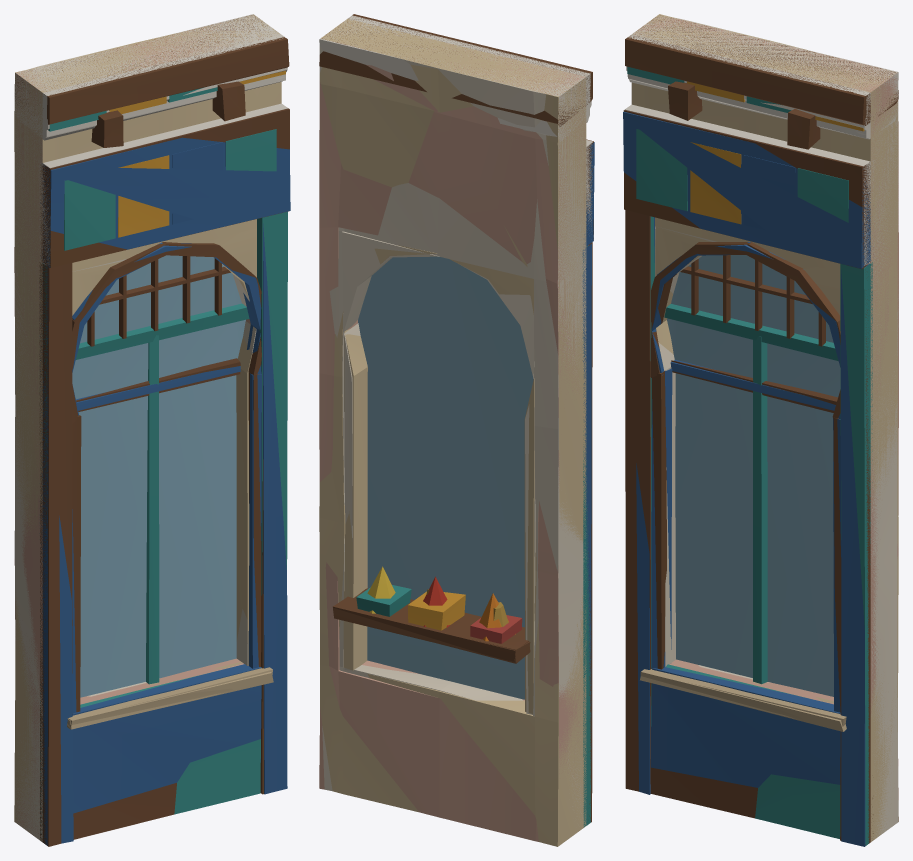
File: wall.shopfront.glb
3 views of the same model, side by side, from view 1: azimuth 30°, elevation 25°; view 2: azimuth 150°, elevation 25°; view 3: azimuth 330°, elevation 25° (orthographic).
Parts seen in each view (by area): view 1: wall.shopfront.v0.mesh, wall.shopfront.v2.mesh, wall.shopfront.v1.mesh; view 2: wall.shopfront.v1.mesh, wall.shopfront.v0.mesh, wall.shopfront.v2.mesh; view 3: wall.shopfront.v0.mesh, wall.shopfront.v2.mesh, wall.shopfront.v1.mesh.
Boxes of the visible parts, left/top/right/bottom form: wall.shopfront.v0.mesh: left=14, top=14, right=289, bottom=846; wall.shopfront.v2.mesh: left=14, top=15, right=290, bottom=845; wall.shopfront.v1.mesh: left=14, top=15, right=287, bottom=841; wall.shopfront.v1.mesh: left=319, top=15, right=593, bottom=841; wall.shopfront.v0.mesh: left=319, top=16, right=593, bottom=846; wall.shopfront.v2.mesh: left=319, top=14, right=594, bottom=826; wall.shopfront.v0.mesh: left=623, top=14, right=898, bottom=844; wall.shopfront.v2.mesh: left=623, top=15, right=898, bottom=846; wall.shopfront.v1.mesh: left=624, top=15, right=898, bottom=845.
Size of the model in its own units: 0.9999 by 3 by 0.4012.
